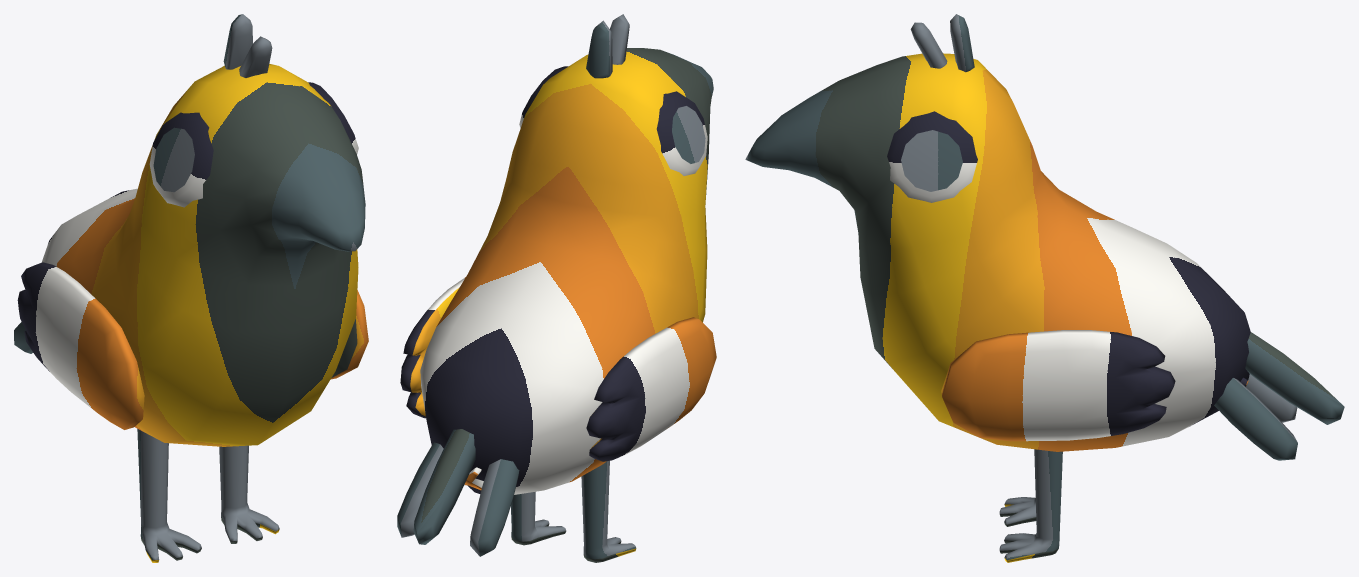
File: crowUVed.fbx
3 views of the same model, side by side, from view 1: azimuth 30°, elevation 25°; view 2: azimuth 150°, elevation 25°; view 3: azimuth 270°, elevation 25° (orthographic). The views are drawn at different scales.
Parts seen in each view (by area): view 1: Crow; view 2: Crow; view 3: Crow.
Part boxes in pixels (left/top/right/bottom): Crow: left=14, top=14, right=368, bottom=562; Crow: left=397, top=14, right=716, bottom=562; Crow: left=745, top=14, right=1344, bottom=562.
Bounding box in the file's own units: 93.64 × 188 × 197.
